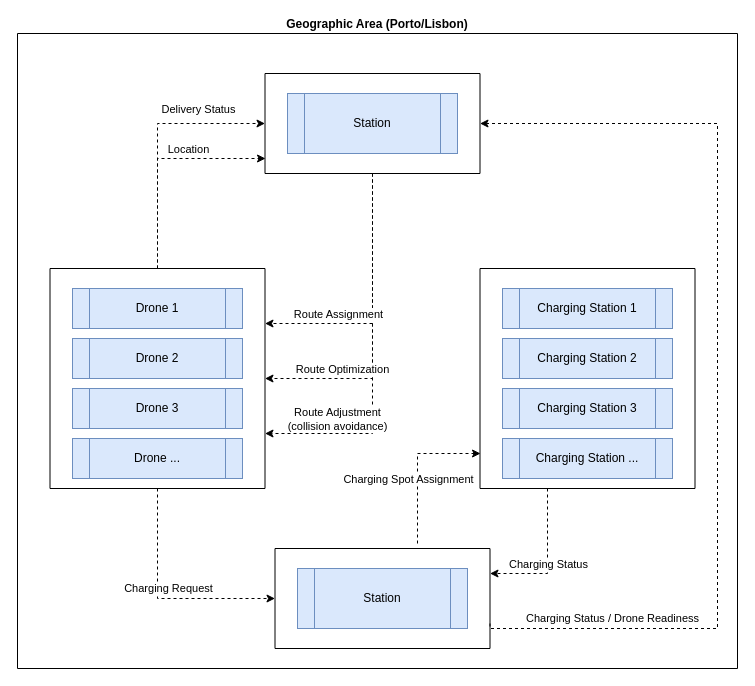
This 755x686 diagram has some shape labels left out. Each missing label, with the box of its shape:
Charging Control Station: (274, 548, 490, 648)
Charging Station System: (479, 268, 695, 488)
Coordinated Delivery Drone System: (49, 268, 265, 488)
Traffic Control Station: (264, 72, 480, 174)
